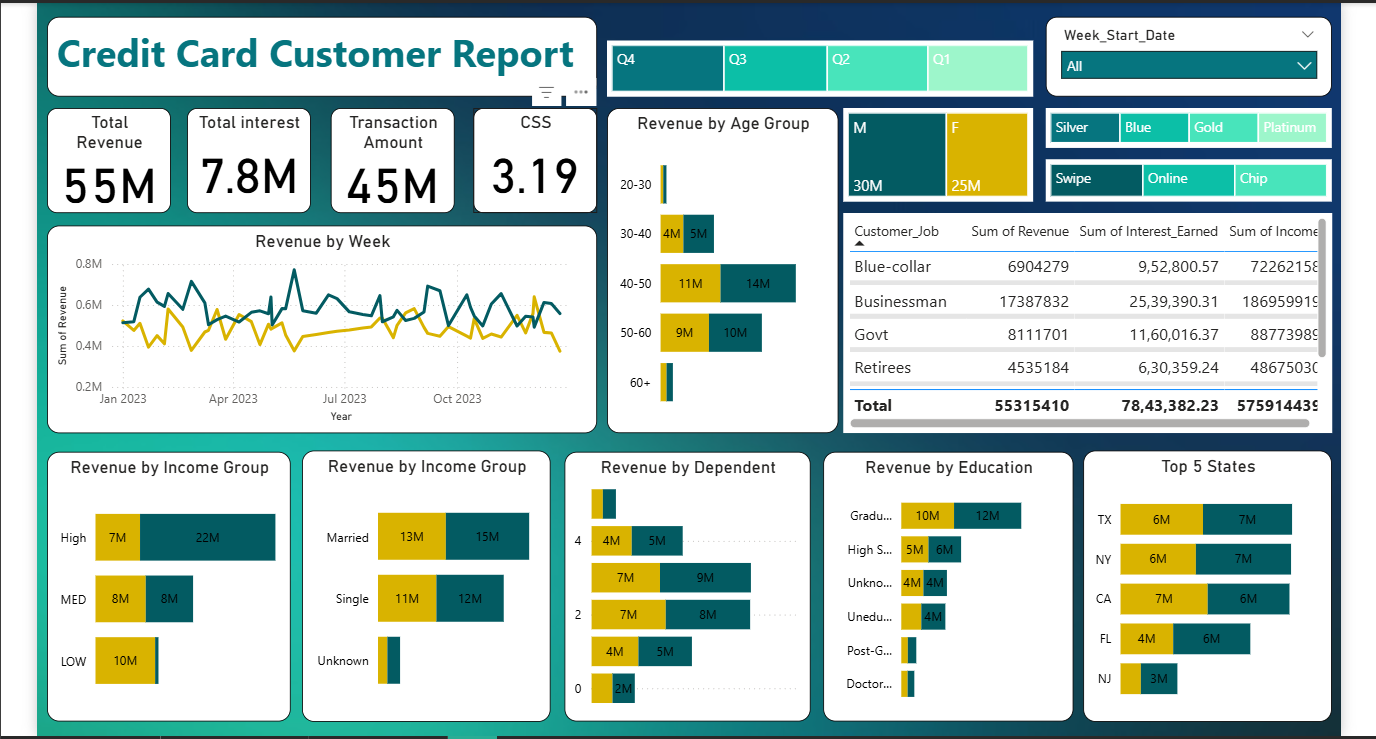

What the dashboard file says about the page in this screenshot:
{"tool":"powerbi","page":{"name":"CC Customer","canvas":[1280,720],"ordinal":1},"visuals":[{"type":"textbox","box":[9.8,13.5,539.9,78.5],"z":0},{"type":"barChart","title":"Revenue by Income Group","fields":{"Y":["Sum(ccdb credit_card.Revenue)"],"Category":["ccdb customer.IncomeGroup"],"Series":["ccdb customer.Gender"]},"box":[9.8,440.5,239.3,265],"z":1000},{"type":"tableEx","fields":{"Values":["ccdb customer.Customer_Job","Sum(ccdb credit_card.Revenue)","Sum(ccdb credit_card.Interest_Earned)","Sum(ccdb customer.Income)"]},"box":[791.4,206.1,479.8,216],"z":2000},{"type":"card","title":"Total Revenue","fields":{"Values":["Sum(ccdb credit_card.Revenue)"]},"box":[9.8,103.1,121.5,103.1],"z":3000},{"type":"card","title":"Total interest","fields":{"Values":["Sum(ccdb credit_card.Interest_Earned)"]},"box":[147.2,103.1,121.5,103.1],"z":4000},{"type":"card","title":"Transaction Amount","fields":{"Values":["Sum(ccdb credit_card.Total_Trans_Amt)"]},"box":[288.3,103.1,121.5,103.1],"z":5000},{"type":"card","title":"CSS","fields":{"Values":["Avg(ccdb customer.Cust_Satisfaction_Score)"]},"box":[428.2,103.1,121.5,103.1],"z":6000},{"type":"slicer","fields":{"Values":["ccdb credit_card.Week_Start_Date"]},"box":[990.2,13.5,281,78.5],"z":7000},{"type":"treemap","fields":{"Group":["ccdb credit_card.Qtr"],"Values":["Avg(ccdb credit_card.ï»¿Client_Num)"]},"box":[559.5,36.8,418.4,55.2],"z":8000},{"type":"treemap","fields":{"Values":["Avg(ccdb credit_card.ï»¿Client_Num)"],"Group":["ccdb credit_card.Card_Category"]},"box":[990.2,103.1,281,39.3],"z":9000},{"type":"lineChart","title":"Revenue by Week","fields":{"Series":["ccdb customer.Gender"],"Y":["Sum(ccdb credit_card.Revenue)"],"Category":["ccdb credit_card.Week_Start_Date.Variation.Date Hierarchy.Year","ccdb credit_card.Week_Start_Date.Variation.Date Hierarchy.Quarter","ccdb credit_card.Week_Start_Date.Variation.Date Hierarchy.Month","ccdb credit_card.Week_Start_Date.Variation.Date Hierarchy.Day"]},"box":[9.8,218.4,539.9,203.7],"z":10000},{"type":"treemap","fields":{"Group":["ccdb customer.Gender"],"Values":["Sum(ccdb credit_card.Revenue)"]},"box":[791.4,103.1,186.5,92],"z":11000},{"type":"barChart","title":"Revenue by Age Group","fields":{"Y":["Sum(ccdb credit_card.Revenue)"],"Category":["ccdb customer.AgeGroup"],"Series":["ccdb customer.Gender"]},"box":[559.5,103.1,227,319],"z":12000},{"type":"barChart","title":"Revenue by Dependent","fields":{"Y":["Sum(ccdb credit_card.Revenue)"],"Category":["ccdb customer.Dependent_Count"],"Series":["ccdb customer.Gender"]},"box":[517.8,440.5,241.7,265],"z":13000},{"type":"barChart","title":"Revenue by Education","fields":{"Y":["Sum(ccdb credit_card.Revenue)"],"Category":["ccdb customer.Education_Level"],"Series":["ccdb customer.Gender"]},"box":[771.8,440.5,245.4,265],"z":14000},{"type":"barChart","title":"Top 5 States","fields":{"Y":["Sum(ccdb credit_card.Revenue)"],"Category":["ccdb customer.state_cd"],"Series":["ccdb customer.Gender"]},"box":[1027,439.3,244.2,266.3],"z":15000},{"type":"treemap","fields":{"Values":["Avg(ccdb credit_card.ï»¿Client_Num)"],"Group":["ccdb credit_card.Use Chip"]},"box":[990.2,153.4,281,41.7],"z":16000},{"type":"barChart","title":"Revenue by Income Group","fields":{"Y":["Sum(ccdb credit_card.Revenue)"],"Category":["ccdb customer.Marital_Status"],"Series":["ccdb customer.Gender"]},"box":[260.1,439.3,244.2,266.3],"z":17000}]}

Visuals, with their boxes in screenshot pixels (x1, y1, x2, y2):
textbox: [49, 17, 595, 97]
"Revenue by Income Group" barChart: [49, 449, 291, 717]
tableEx - ccdb customer.Customer_Job x Sum(ccdb credit_card.Revenue): [840, 212, 1325, 430]
"Total Revenue" card: [49, 108, 172, 212]
"Total interest" card: [188, 108, 311, 212]
"Transaction Amount" card: [331, 108, 454, 212]
"CSS" card: [472, 108, 595, 212]
slicer - ccdb credit_card.Week_Start_Date: [1041, 17, 1325, 97]
treemap - ccdb credit_card.Qtr x Avg(ccdb credit_card.ï»¿Client_Num): [605, 41, 1028, 97]
treemap - Avg(ccdb credit_card.ï»¿Client_Num) x ccdb credit_card.Card_Category: [1041, 108, 1325, 148]
"Revenue by Week" lineChart: [49, 224, 595, 430]
treemap - ccdb customer.Gender x Sum(ccdb credit_card.Revenue): [840, 108, 1028, 201]
"Revenue by Age Group" barChart: [605, 108, 835, 430]
"Revenue by Dependent" barChart: [563, 449, 807, 717]
"Revenue by Education" barChart: [820, 449, 1068, 717]
"Top 5 States" barChart: [1078, 448, 1325, 717]
treemap - Avg(ccdb credit_card.ï»¿Client_Num) x ccdb credit_card.Use Chip: [1041, 159, 1325, 201]
"Revenue by Income Group" barChart: [302, 448, 549, 717]
